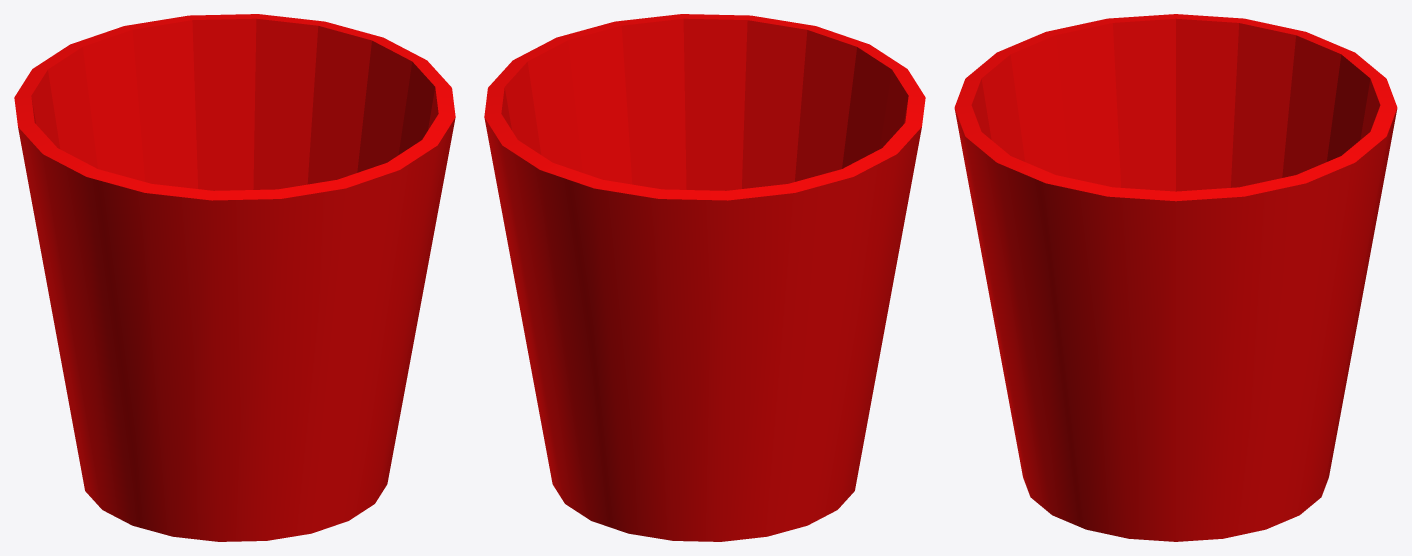
File: poubelle.fbx
3 renders of one model, left to right at view 1: azimuth 30°, elevation 25°; view 2: azimuth 150°, elevation 25°; view 3: azimuth 270°, elevation 25°, orthographic.
Visible parts, largest first — view 1: pCylinder1; view 2: pCylinder1; view 3: pCylinder1.
Part boxes in pixels (left/top/right/bottom): pCylinder1: left=14, top=14, right=455, bottom=541; pCylinder1: left=484, top=14, right=925, bottom=541; pCylinder1: left=954, top=14, right=1397, bottom=541.
Bounding box in the file's own units: 14.32 × 13.42 × 14.32.
